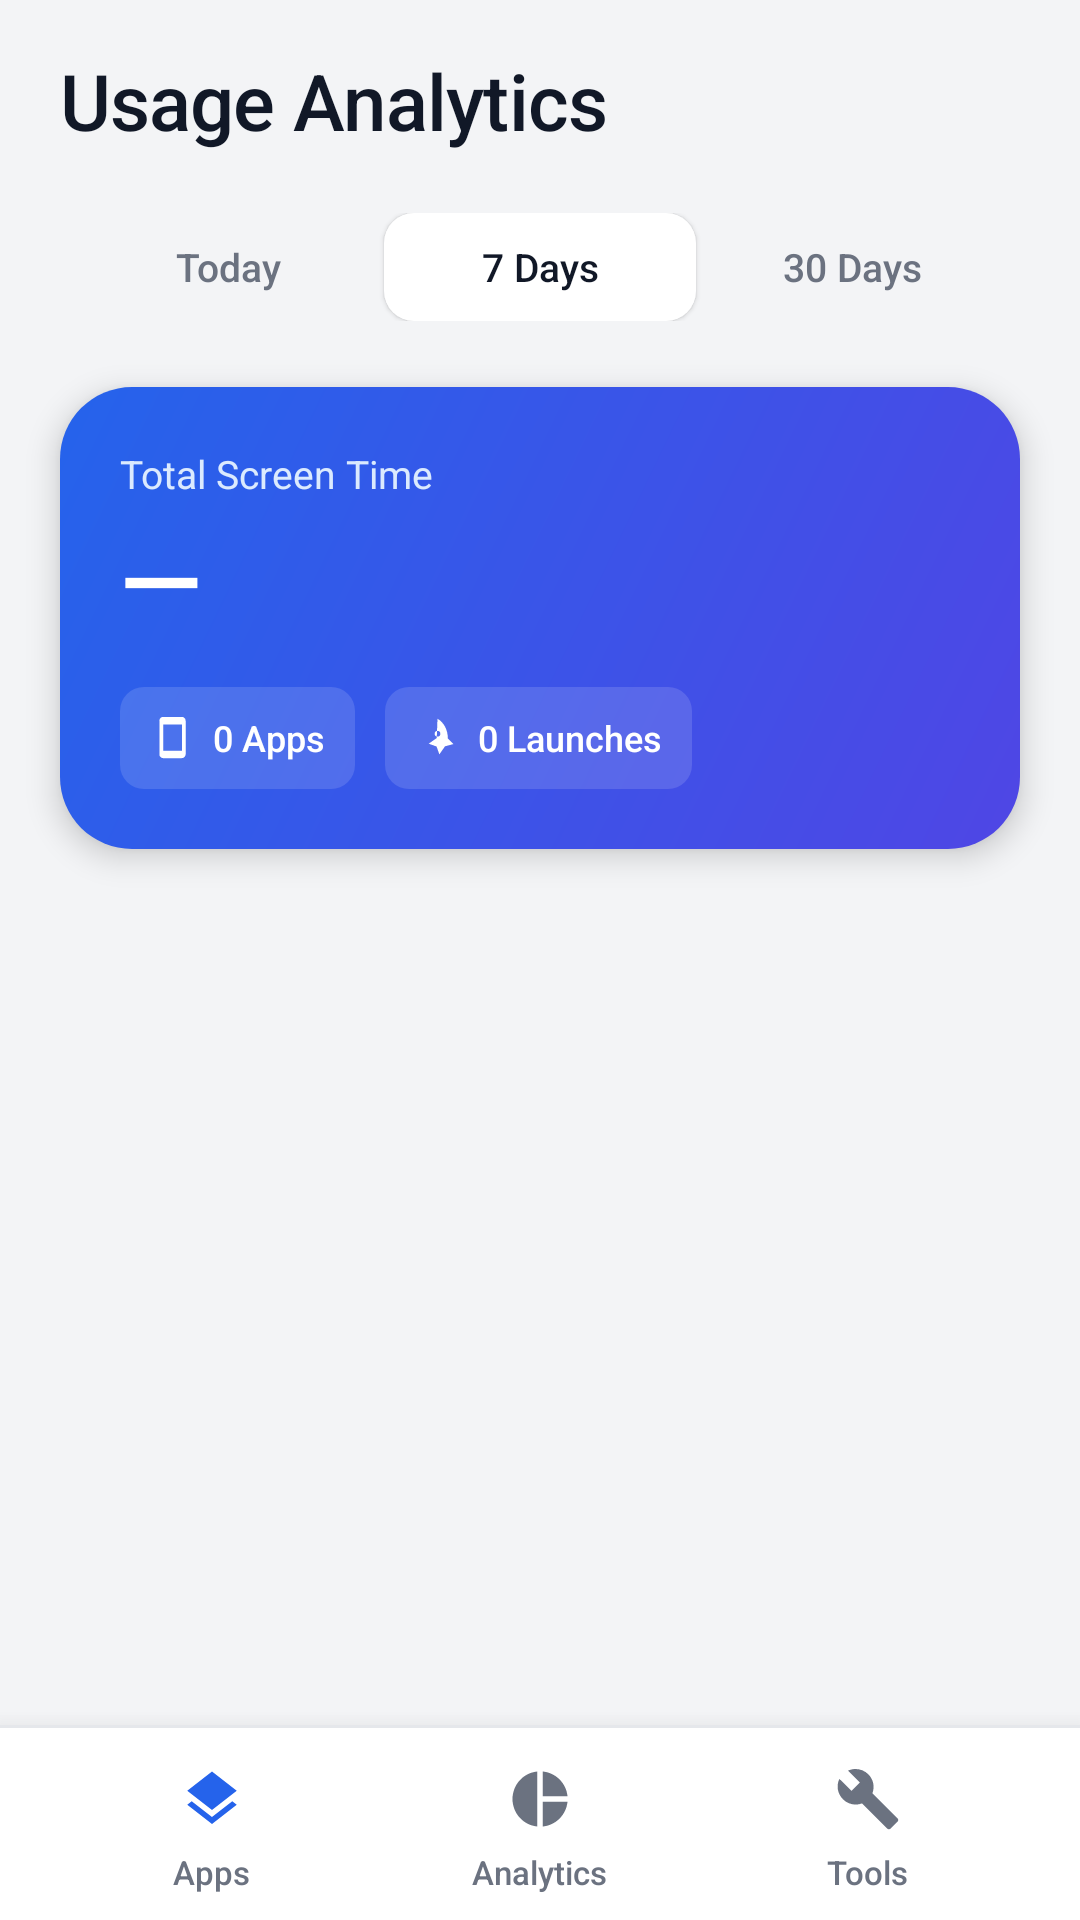

Icons on this 1080 × 1920 Android screen, each with the point to tap as [x,y]:
layers: [212,1797]
phone: [172,738]
